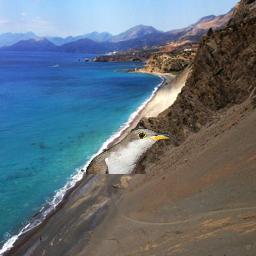Cuckoo: (86, 128, 171, 174)
